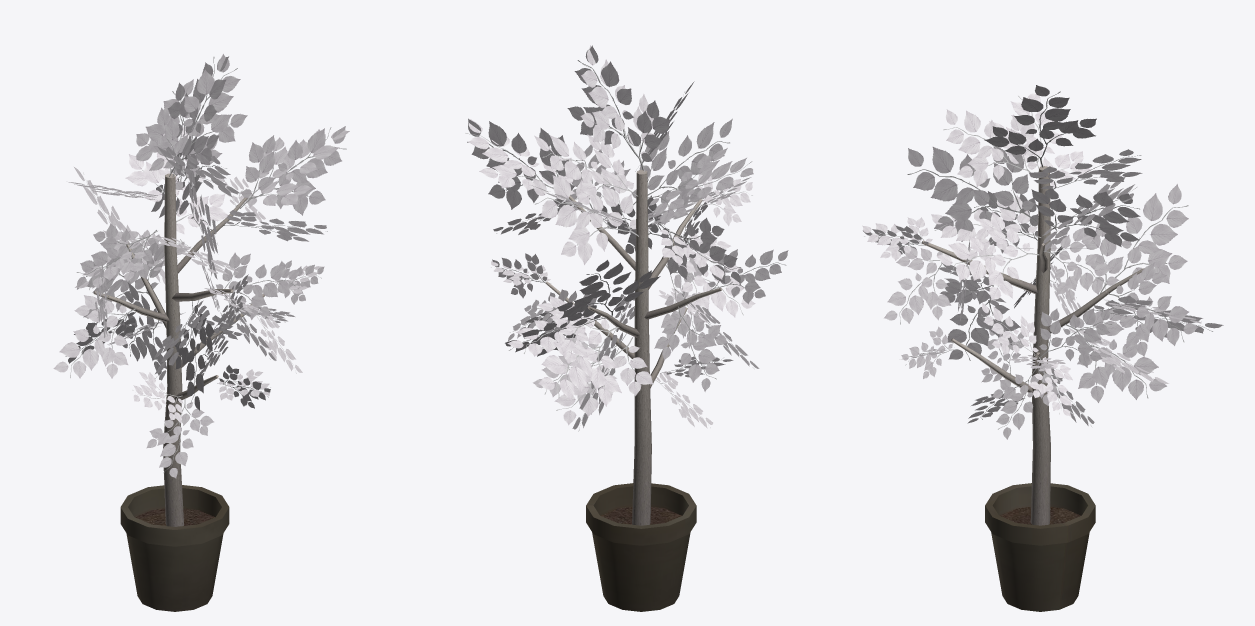
File: pohon.fbx
3 renders of one model, left to right at view 1: azimuth 30°, elevation 25°; view 2: azimuth 150°, elevation 25°; view 3: azimuth 270°, elevation 25°, orthographic.
Parts seen in each view (by area): view 1: daun, pohon; view 2: daun, pohon; view 3: daun, pohon.
Part boxes in pixels (<box>): daun: <box>53,54,349,478</box>; pohon: <box>93,173,264,611</box>; daun: <box>465,45,788,431</box>; pohon: <box>545,170,721,611</box>; daun: <box>862,85,1223,439</box>; pohon: <box>921,166,1143,611</box>.
Size of the model in its own units: 9.16 by 14.16 by 8.96.
Materials: 2 (2 with a texture image).
